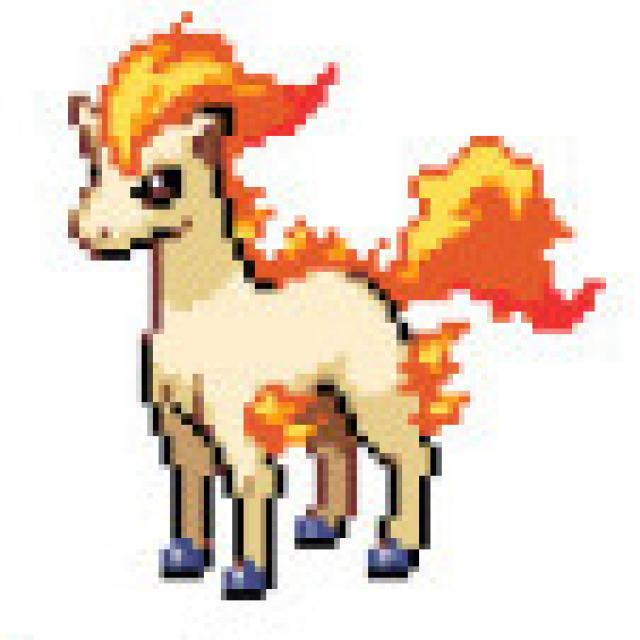Ponyta: (59, 32, 461, 588)
